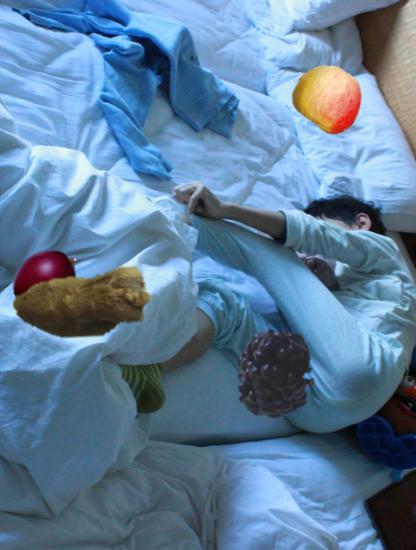Apple: (294, 63, 364, 133)
Ginger: (13, 234, 151, 372)
Mulberry: (214, 316, 321, 423)
Tamarillo: (10, 242, 82, 314)
